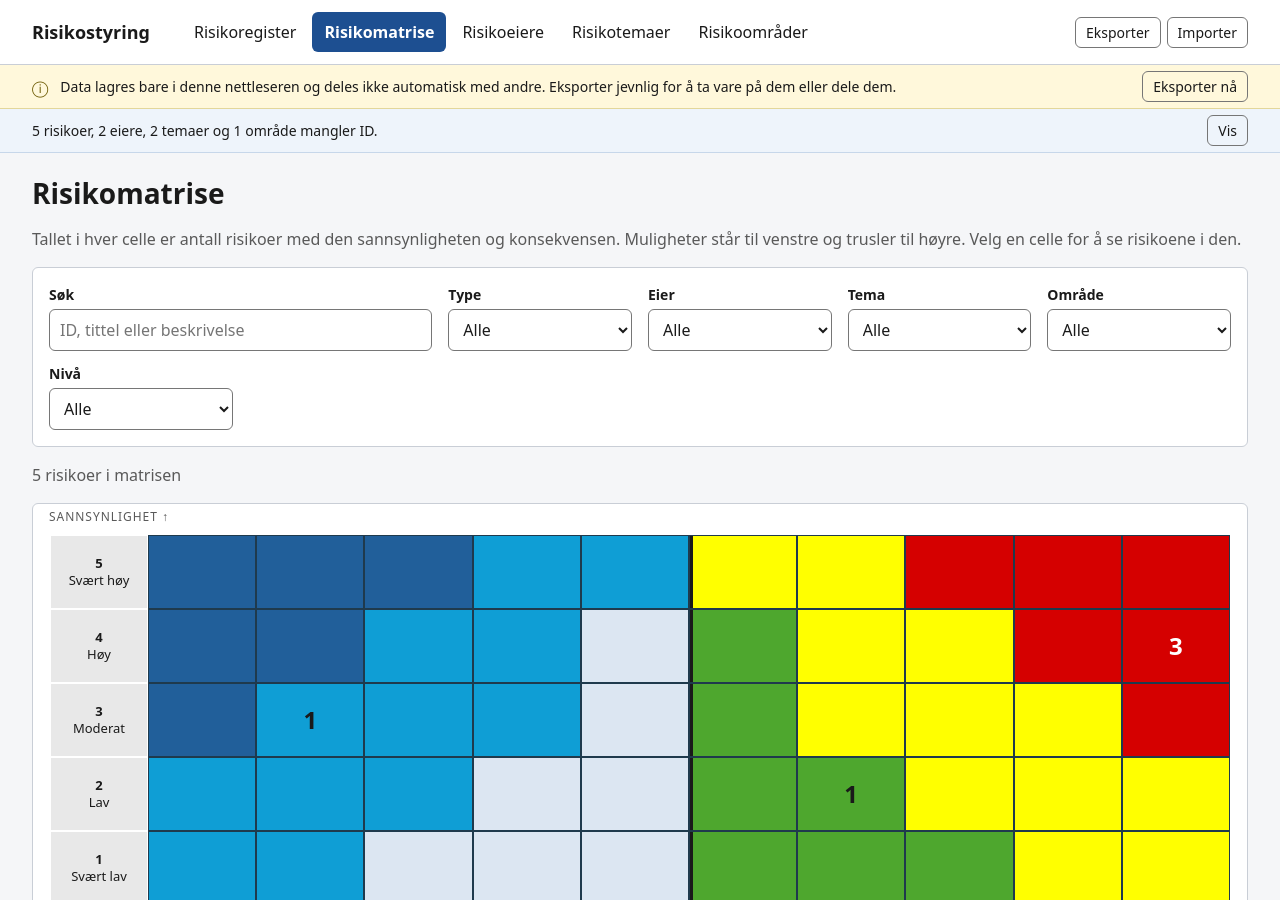
Test case: filtre i matrisen (K9) › oppdaterer listen i valgt celle når filteret endres
Check: the heading "Risikomatrise" is shown, box [32,174,224,212]
Click the button "3".
click(1176, 646)  # box [1123,610,1229,682]
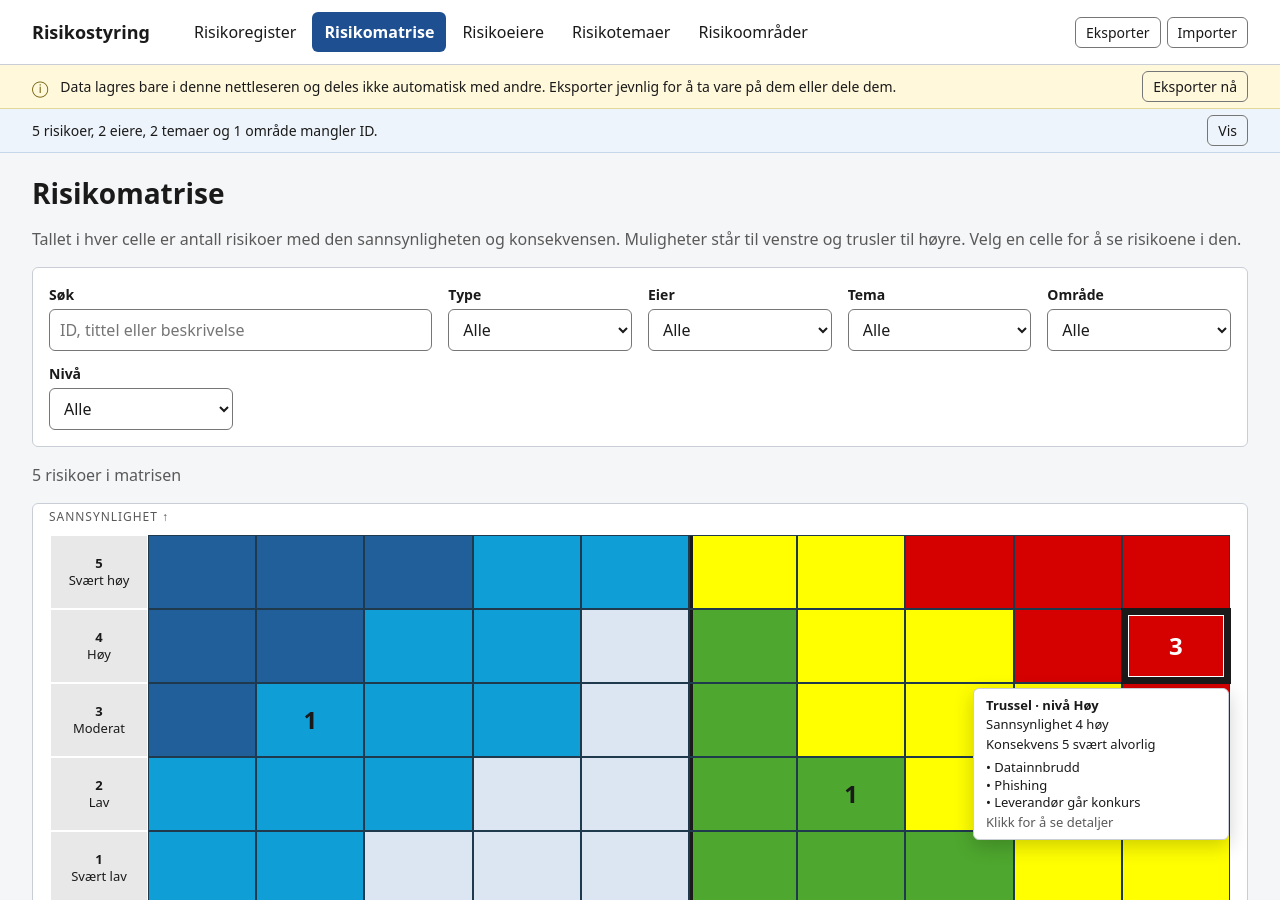
Select "Ola Åsen" in the dropdown labelled "Eier" at coordinates (740, 330), box [648,309,832,351]
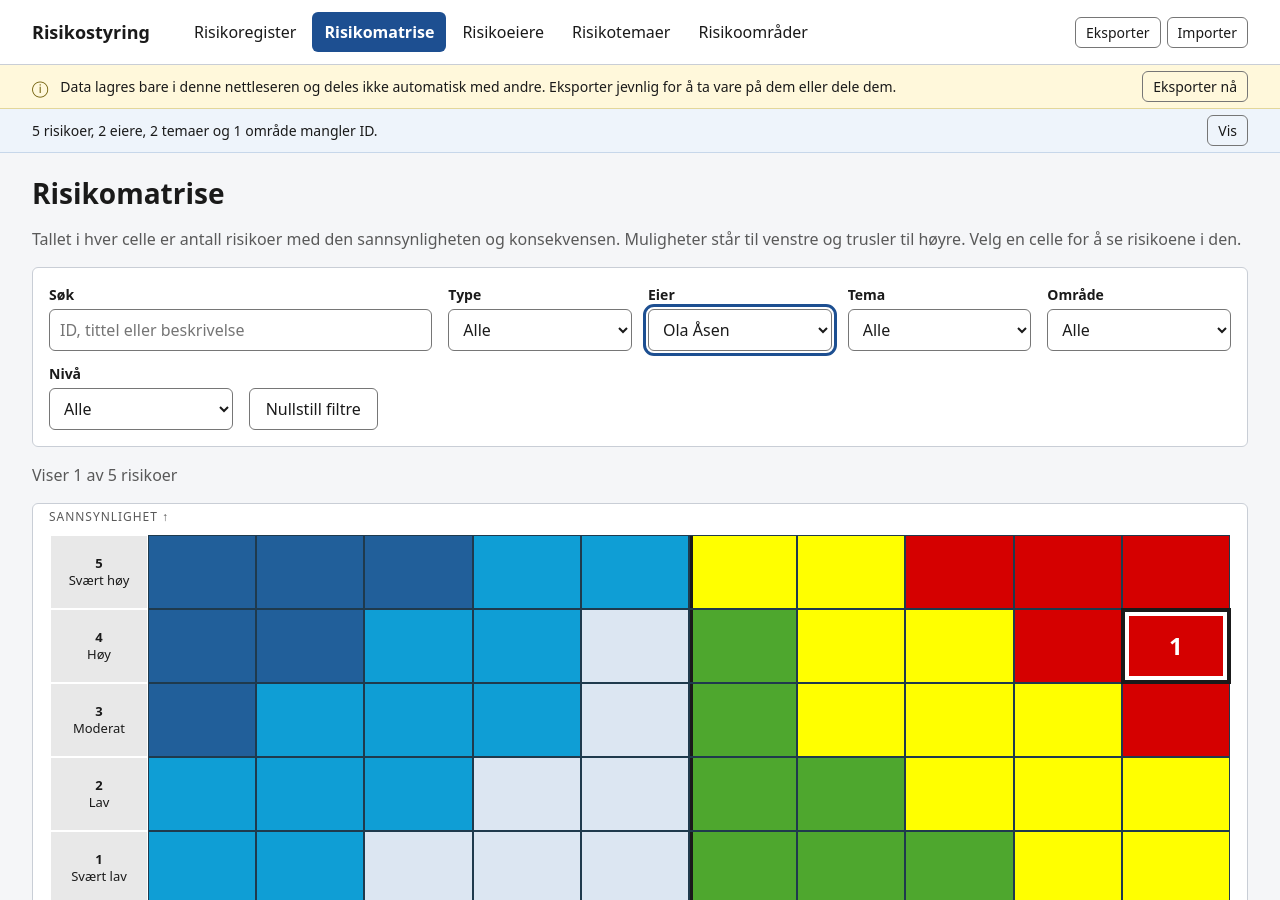
Select "Mulighet" in the dropdown labelled "Type" at coordinates (540, 330), box [448,309,632,351]
(page scrolled)
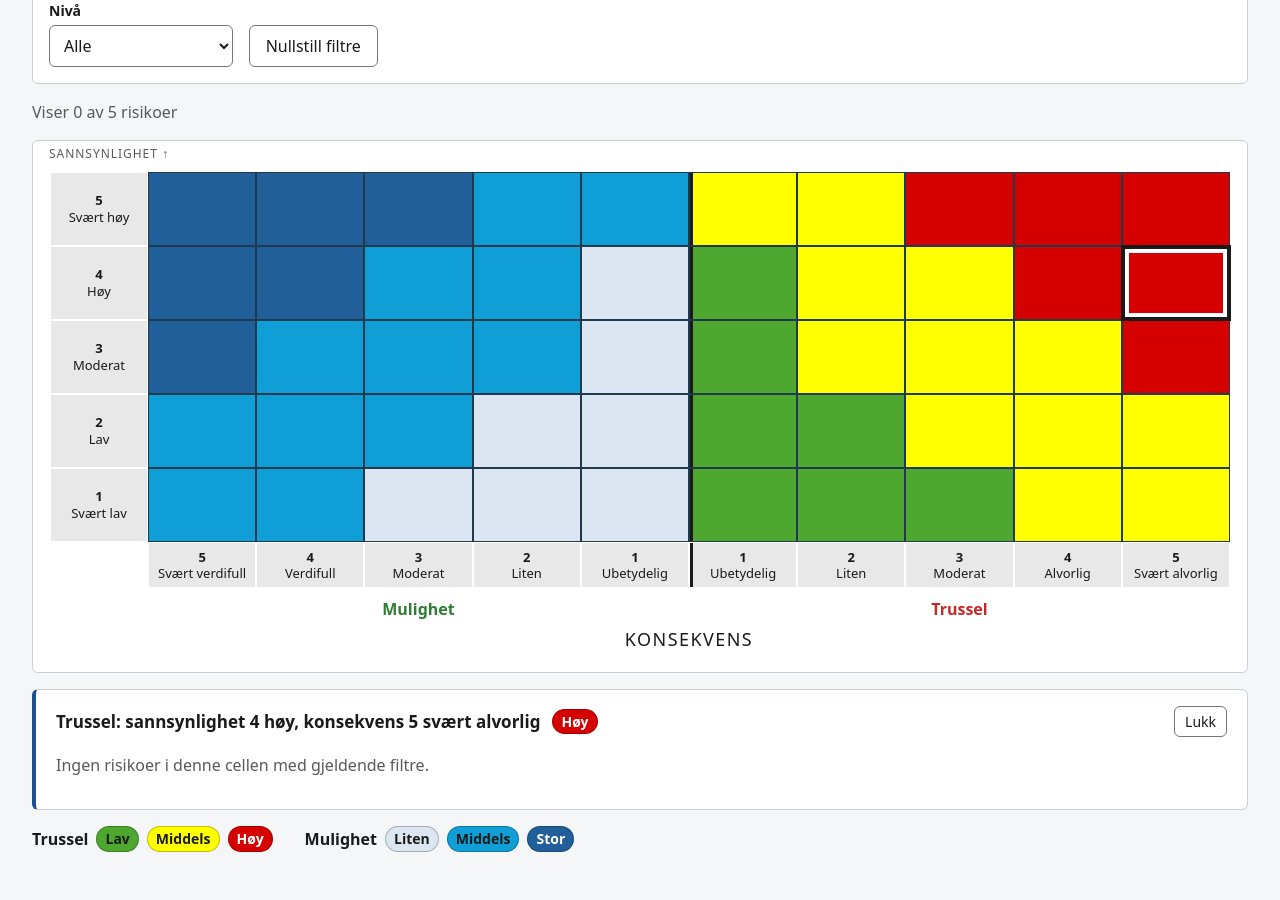
Check: the text "Ingen risikoer i denne cellen med gjeldende filtre." is shown, box [56,754,429,776]
